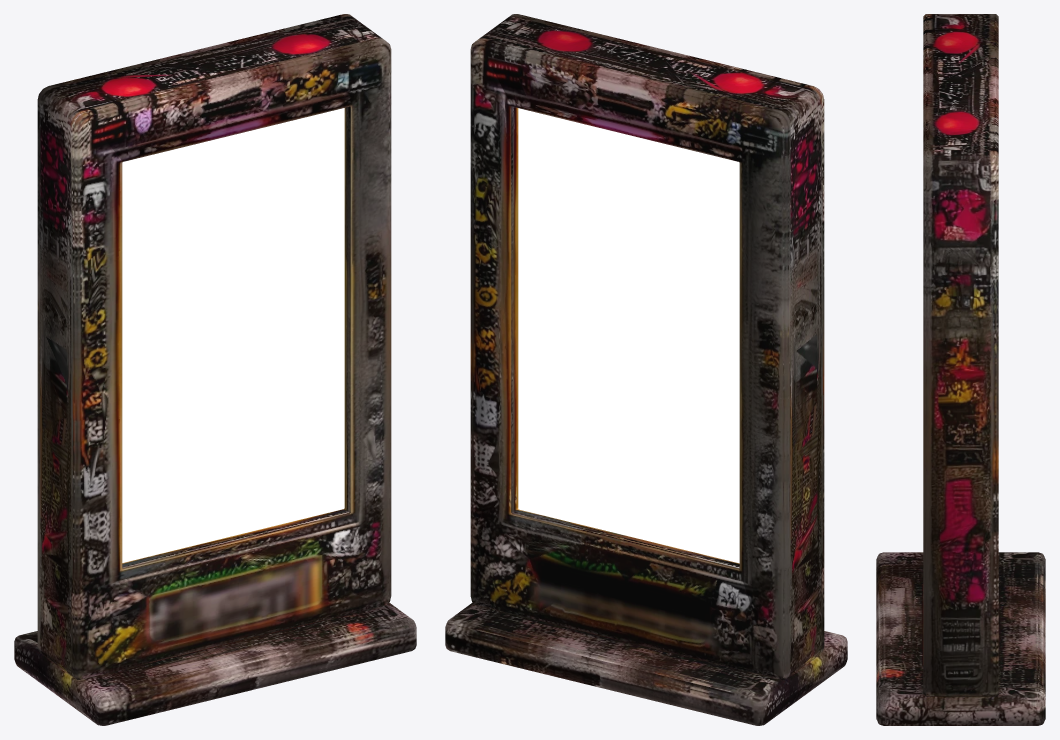
Rendered from marquesina.DuJuYHpD.glb.
3 views of the same model, side by side, from view 1: azimuth 30°, elevation 25°; view 2: azimuth 150°, elevation 25°; view 3: azimuth 270°, elevation 25° (orthographic). The views are drawn at different scales.
Visible parts, largest first — view 1: Marquesina; view 2: Marquesina; view 3: Marquesina.
Part boxes in pixels (box(x1,y1,x2,y2)): Marquesina: box(14, 14, 416, 725); Marquesina: box(445, 14, 847, 725); Marquesina: box(876, 14, 1045, 725).
Bounding box in the file's own units: 0.5625 × 1 × 0.2694.
Materials: 2 (1 with a texture image).
